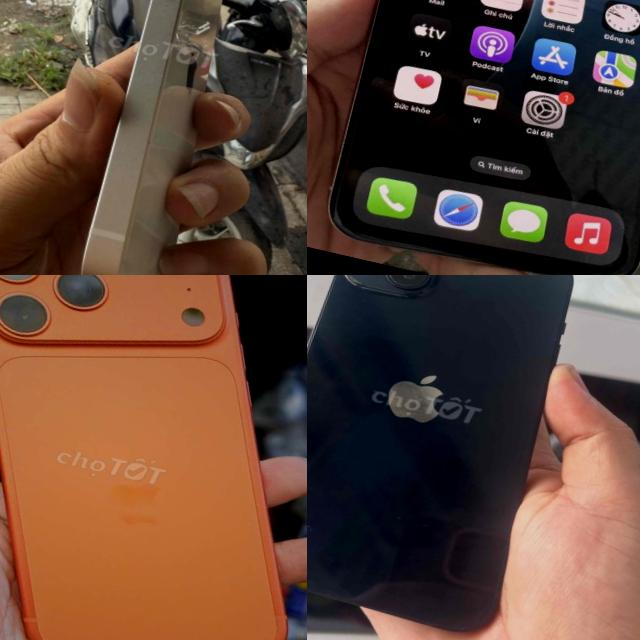gen_11: (318, 0, 640, 275)
gen_12_13: (67, 0, 265, 275)
gen_14: (307, 275, 593, 640)
gen_17: (0, 275, 307, 640)
